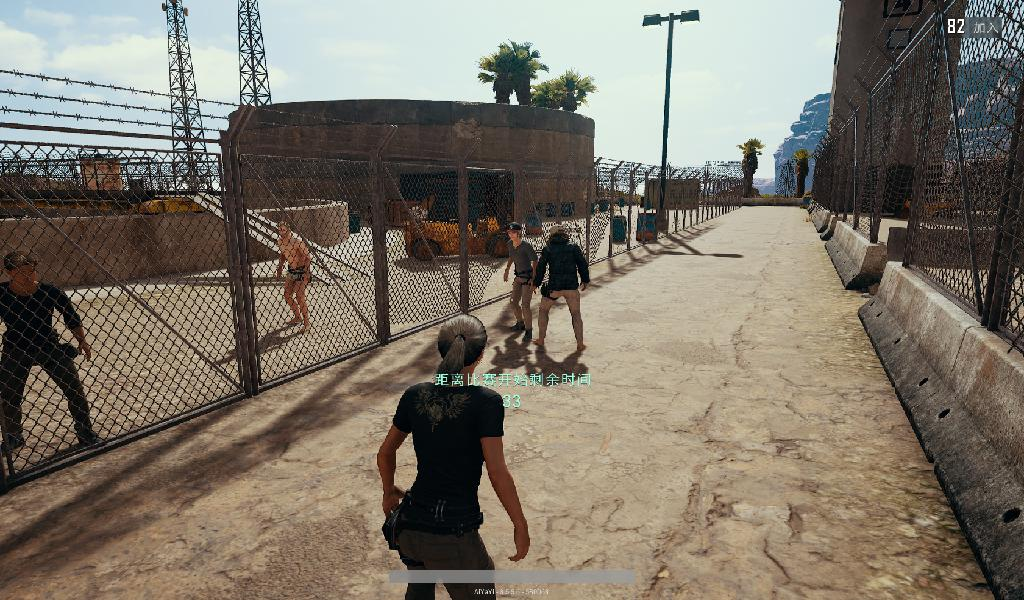Target Person: (378, 314, 531, 600), (1, 249, 110, 449), (533, 225, 590, 351), (500, 222, 540, 345), (272, 221, 313, 331)
